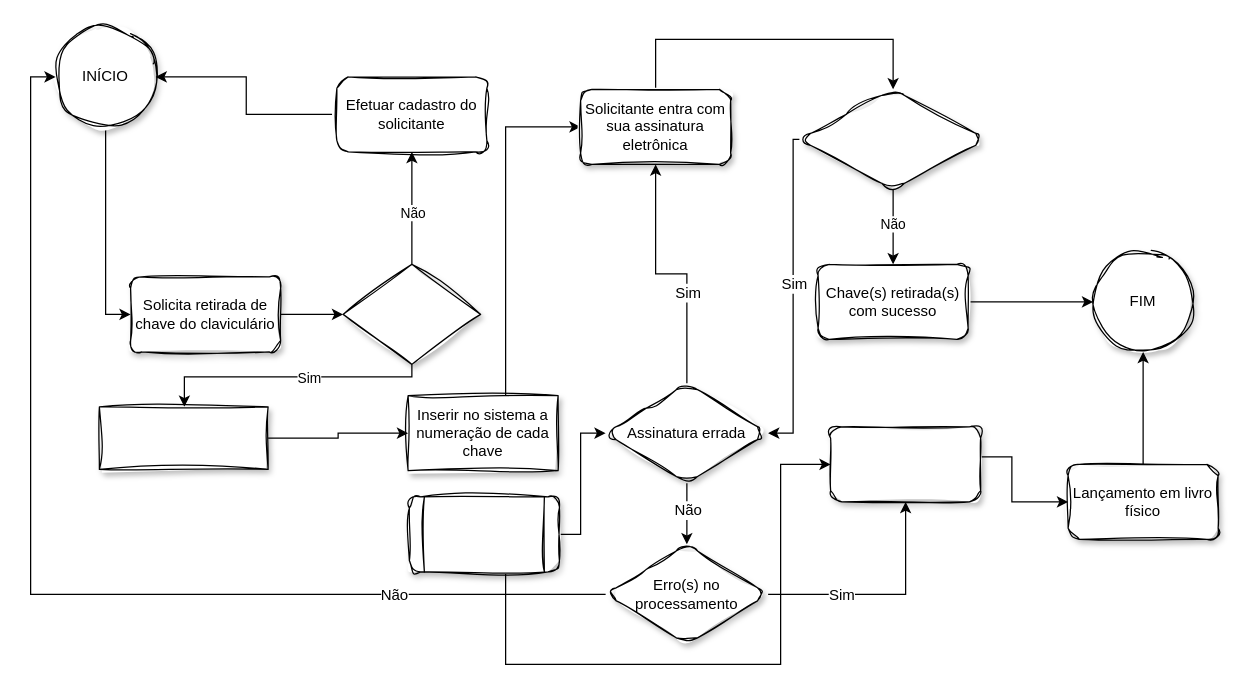
Image size: 1248x696. Some labels were removed from this diagram. The shapes that lost their labels are listed below. From the top down, each one's centre as x and y in pixels, then its label:
At point 893,140: "Ocorreu algum erro".
At point 412,315: "solicitante cadastrado".
At point 184,439: "Informar quais chaves serão retiradas".
At point 906,466: "Feedback negativo ao usuário".
At point 485,536: "Limite de 3 tentativas".
